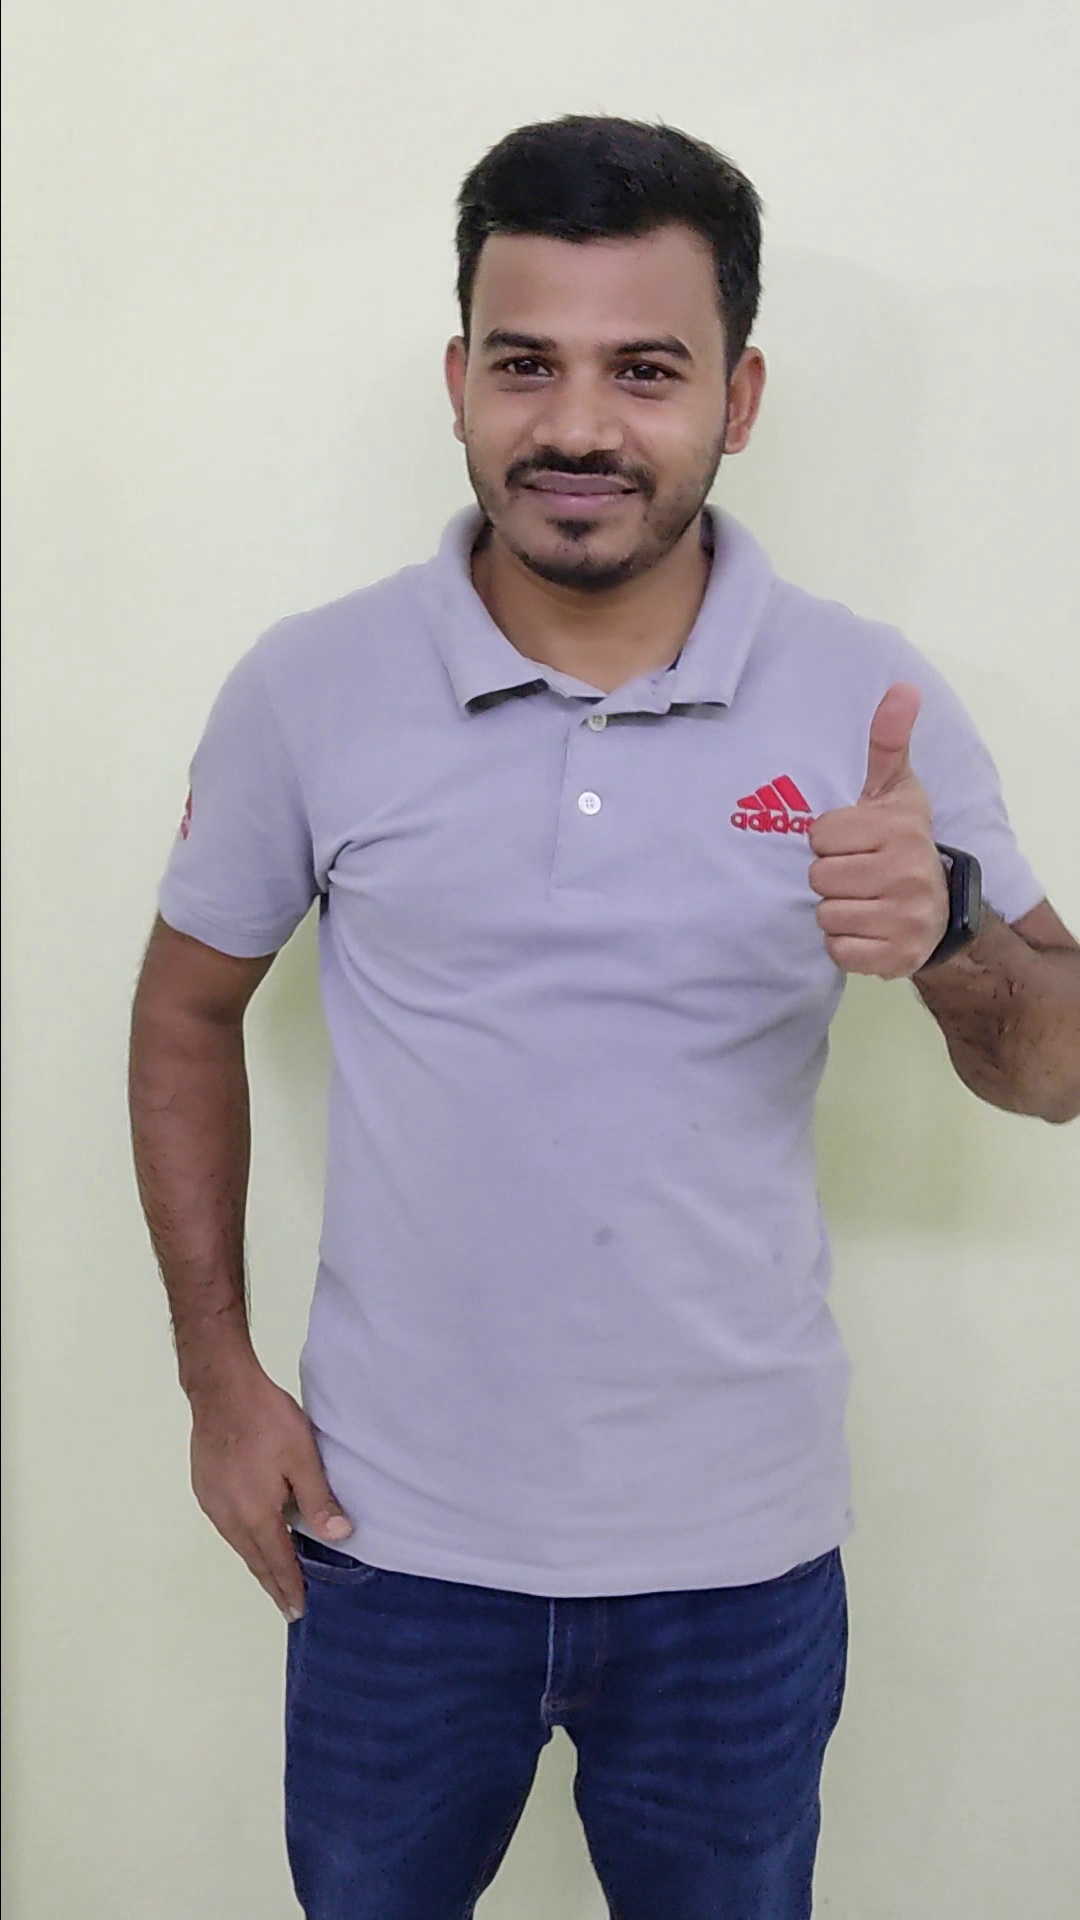Like: (778, 667, 982, 993)
None: (162, 1336, 377, 1627)
